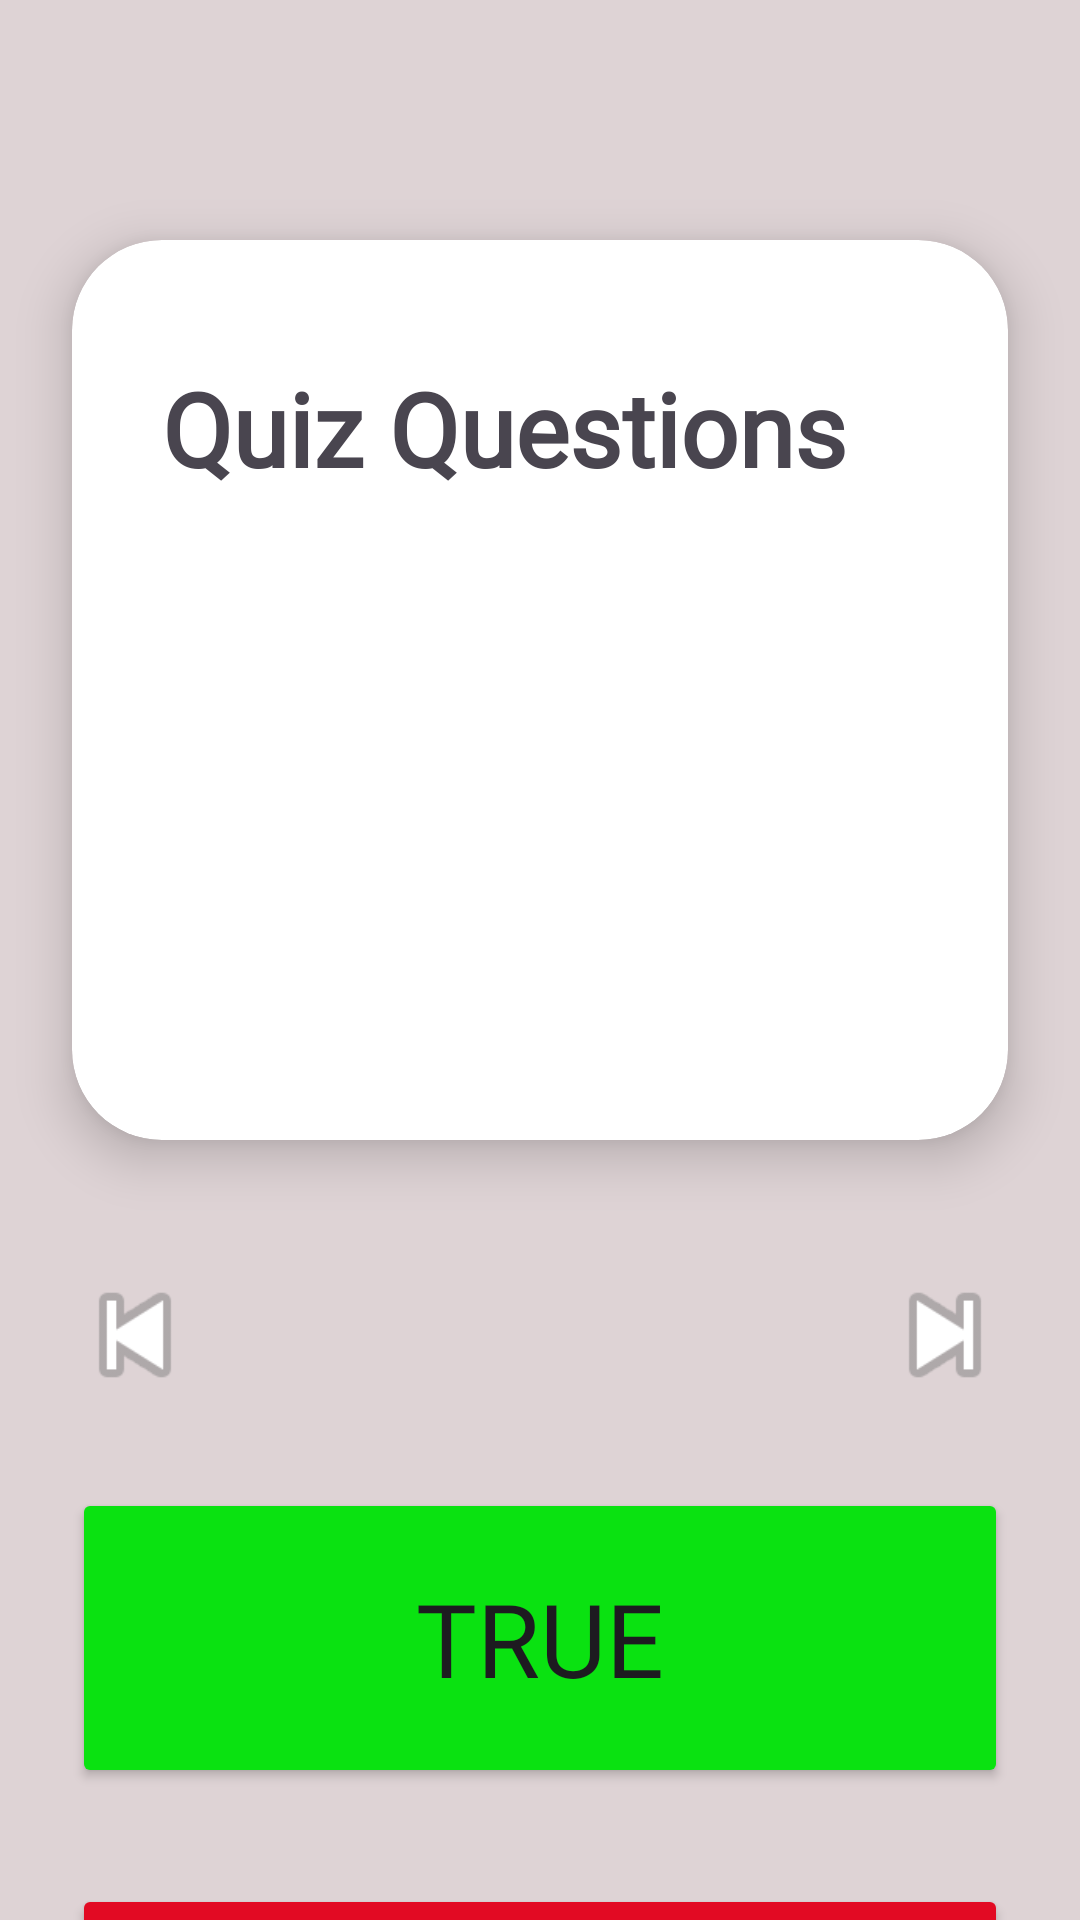

Locate icon controls on the screen. Image size 1080×1920, boxes as (x1=x1, y1=y1, x2=x2, y2=y2).
Next Question: (x1=909, y1=1293, x2=981, y2=1377)
Previous Question: (x1=99, y1=1293, x2=171, y2=1377)
